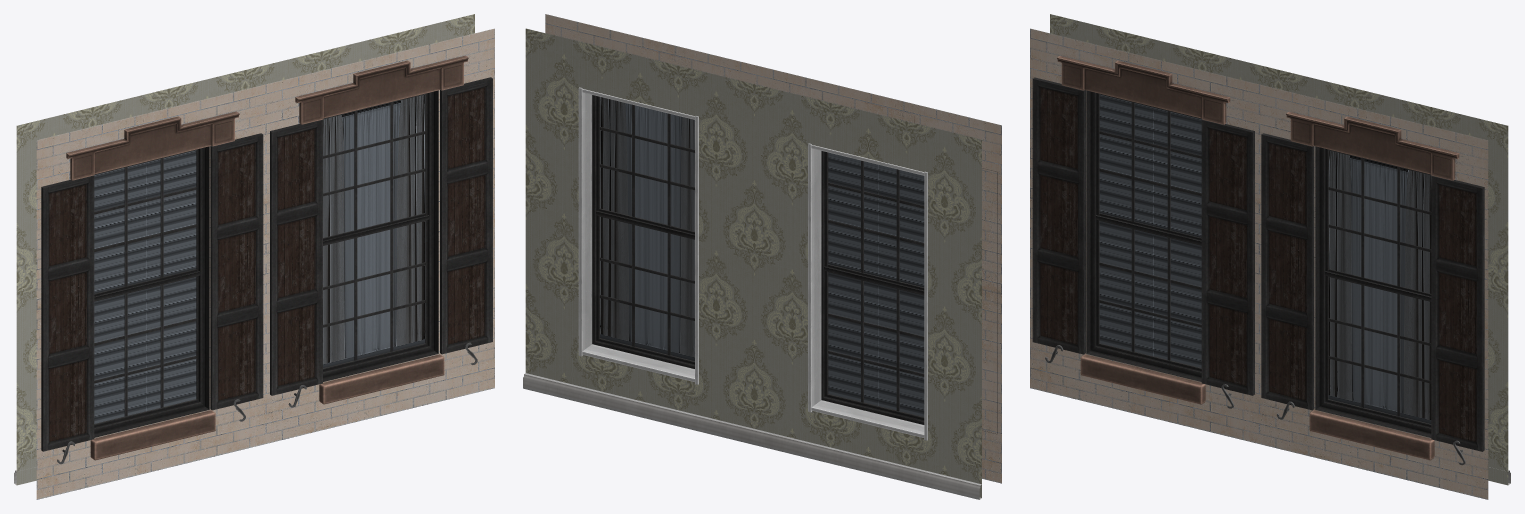
Rendered from House_06_Window_01.fbx.
3 views of the same model, side by side, from view 1: azimuth 30°, elevation 25°; view 2: azimuth 150°, elevation 25°; view 3: azimuth 330°, elevation 25° (orthographic).
Visible parts, largest first — view 1: House_06_Window_01_LOD0; view 2: House_06_Window_01_LOD0; view 3: House_06_Window_01_LOD0.
Boxes of the visible parts, x1=… form: House_06_Window_01_LOD0: x1=14, y1=14, x2=494, y2=499; House_06_Window_01_LOD0: x1=523, y1=14, x2=1001, y2=499; House_06_Window_01_LOD0: x1=1030, y1=14, x2=1510, y2=499.
Size of what is drawn, in the model's own units: 400 by 300 by 40.16.
